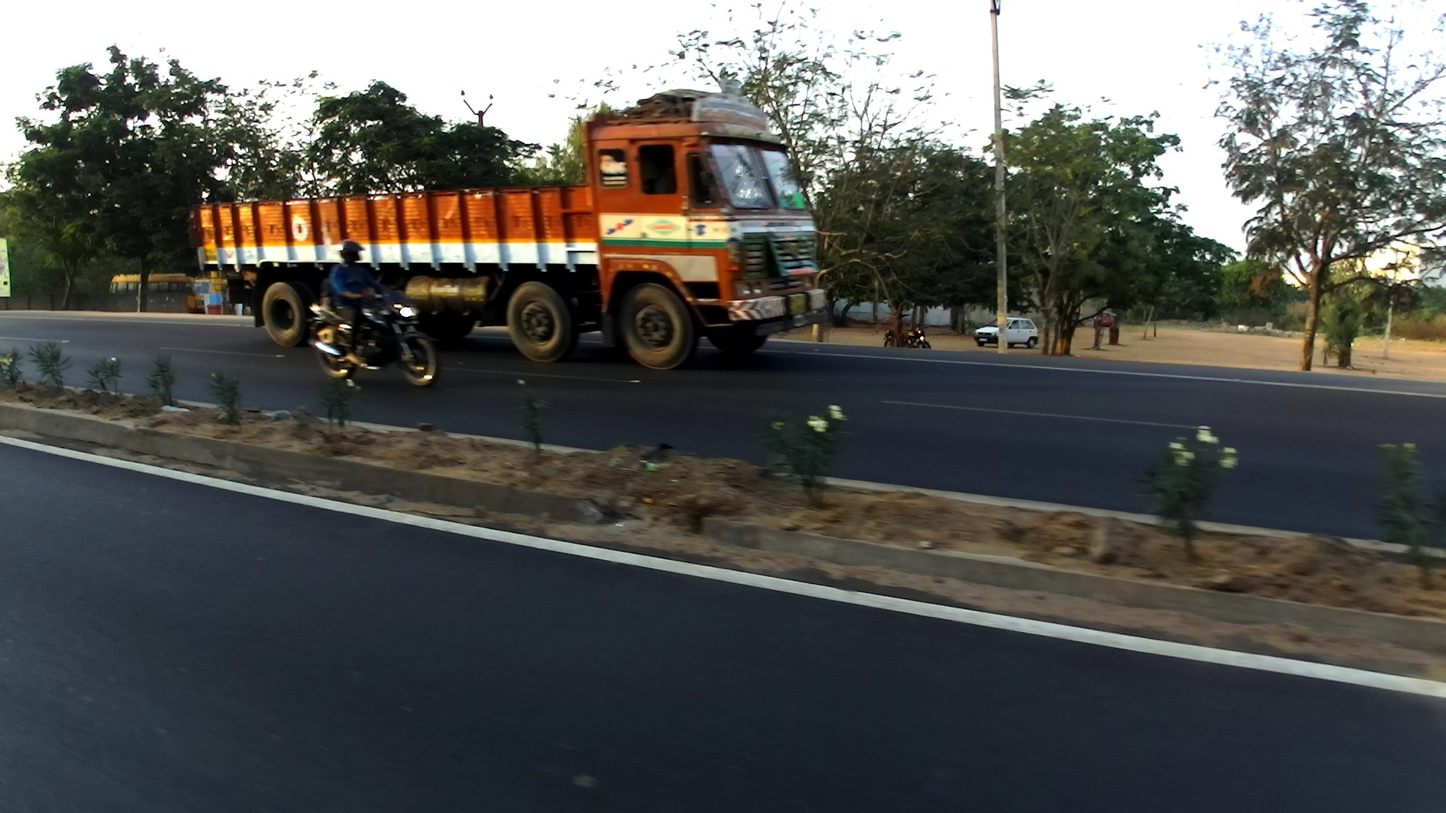car: (972, 313, 1040, 349), (1094, 309, 1114, 330)
motorcycle: (310, 284, 441, 389), (880, 322, 931, 351)
rider: (328, 237, 392, 365)
truck: (188, 88, 823, 371)
vehicle fallback: (108, 271, 230, 314)
